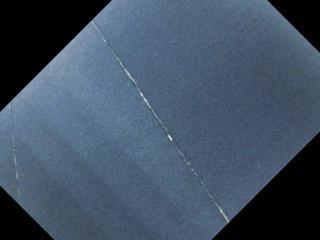crack: (91, 21, 231, 223), (4, 102, 26, 203)
